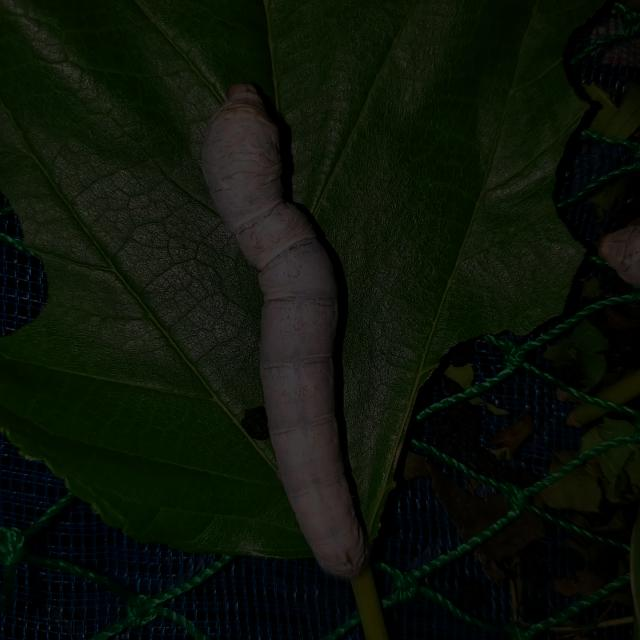Healthy: (186, 77, 397, 581)
